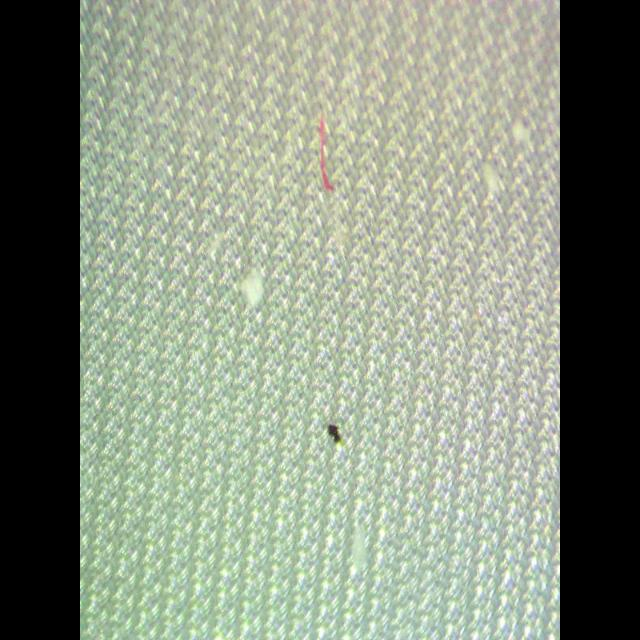Fibre: (313, 106, 341, 210), (326, 423, 342, 445)
